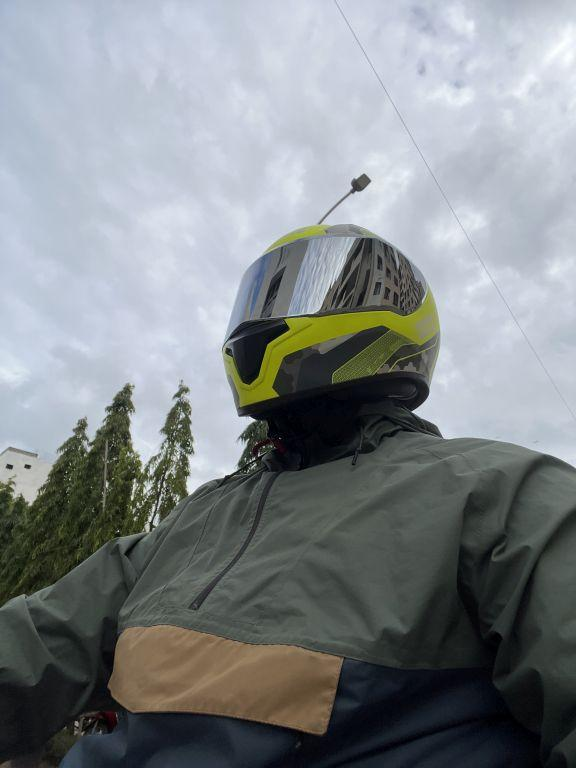helmet: (214, 209, 446, 458)
